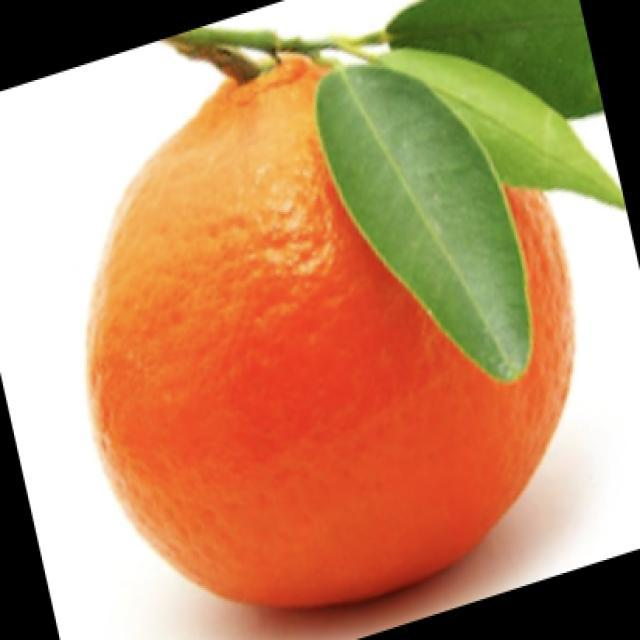matang: (89, 57, 573, 605)
